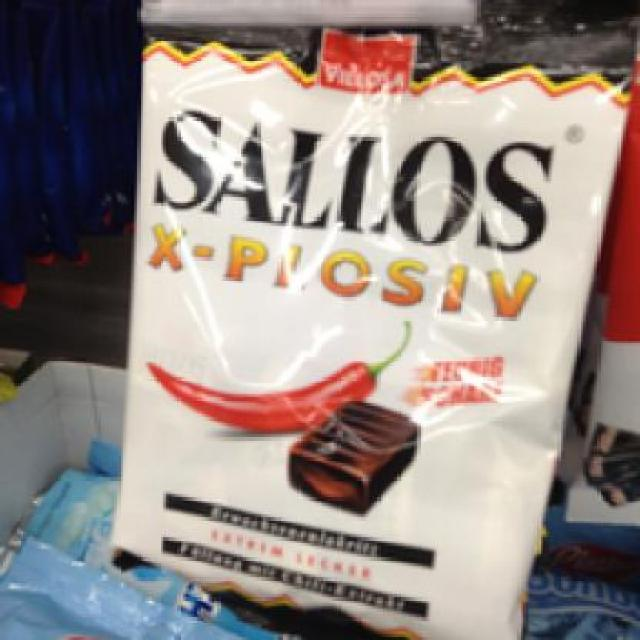Candy: (130, 11, 606, 624)
